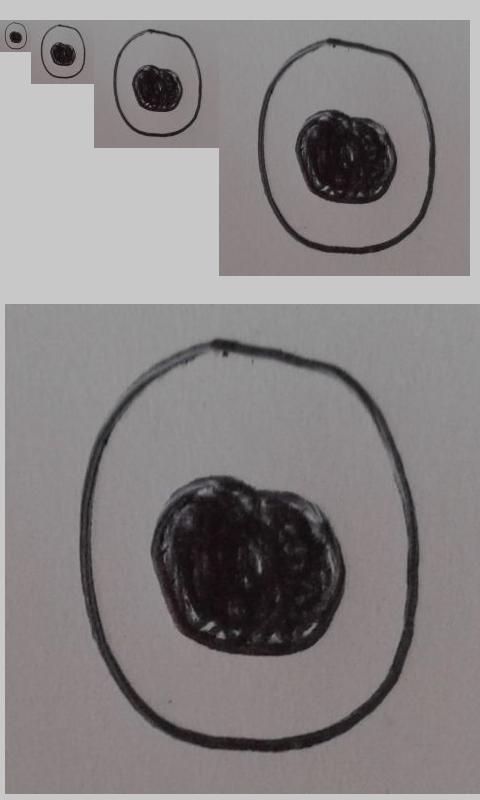radio_button: (76, 335, 420, 753), (255, 36, 438, 259), (112, 28, 204, 138), (40, 24, 86, 79), (4, 22, 28, 50)
